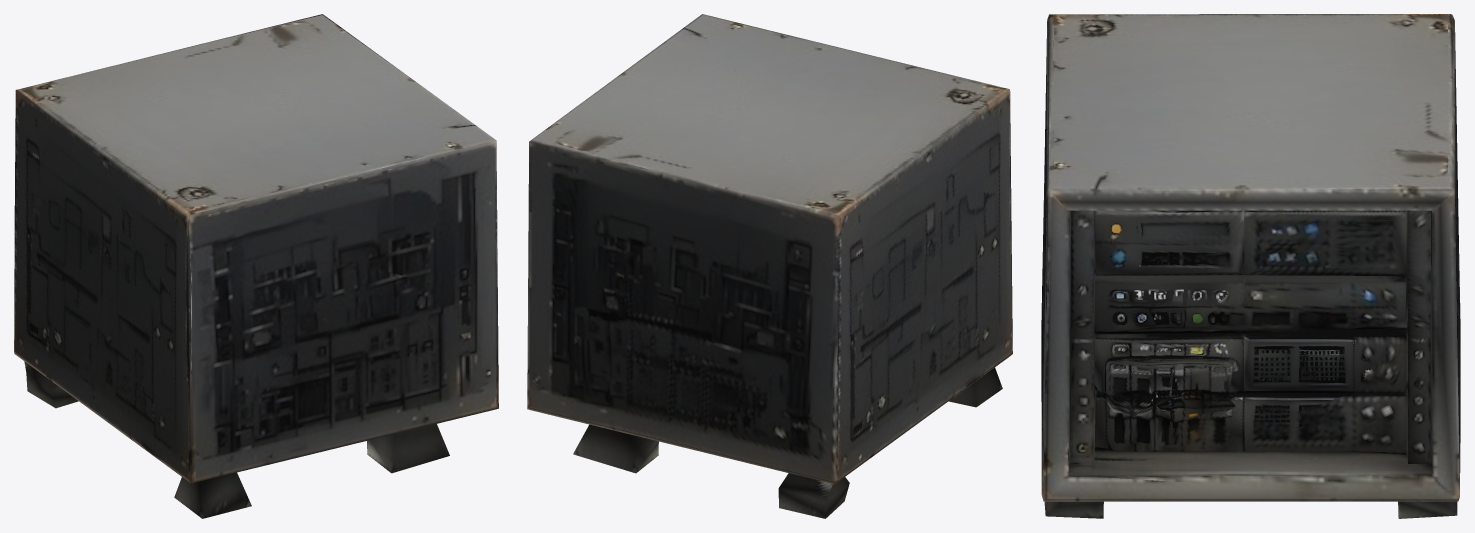
The model's file is tripo_convert_31921a01-7e9b-46bf-bfb6-ccef2ae4cdef.fbx.
3 views of the same model, side by side, from view 1: azimuth 30°, elevation 25°; view 2: azimuth 150°, elevation 25°; view 3: azimuth 270°, elevation 25° (orthographic). The views are drawn at different scales.
Visible parts, largest first — view 1: tripo_node_31921a01; view 2: tripo_node_31921a01; view 3: tripo_node_31921a01.
Boxes of the visible parts, left/top/right/bottom form: tripo_node_31921a01: left=14, top=14, right=498, bottom=518; tripo_node_31921a01: left=527, top=14, right=1012, bottom=518; tripo_node_31921a01: left=1041, top=14, right=1460, bottom=518.
Size of the model in its own units: 0.9994 by 0.9457 by 0.9999.
Materials: 1 (1 with a texture image).
